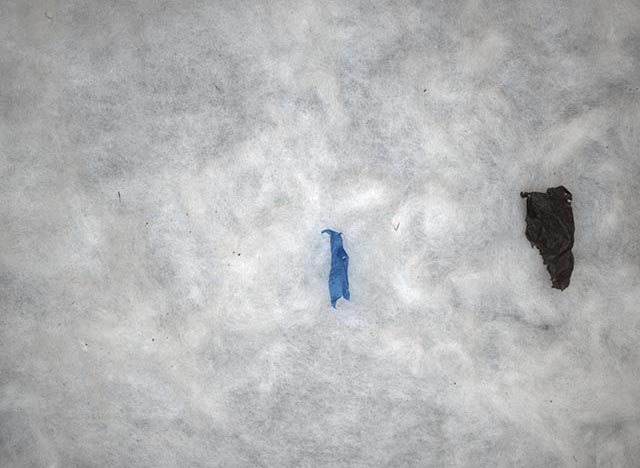plastic film: (519, 184, 576, 293), (320, 228, 351, 308)
